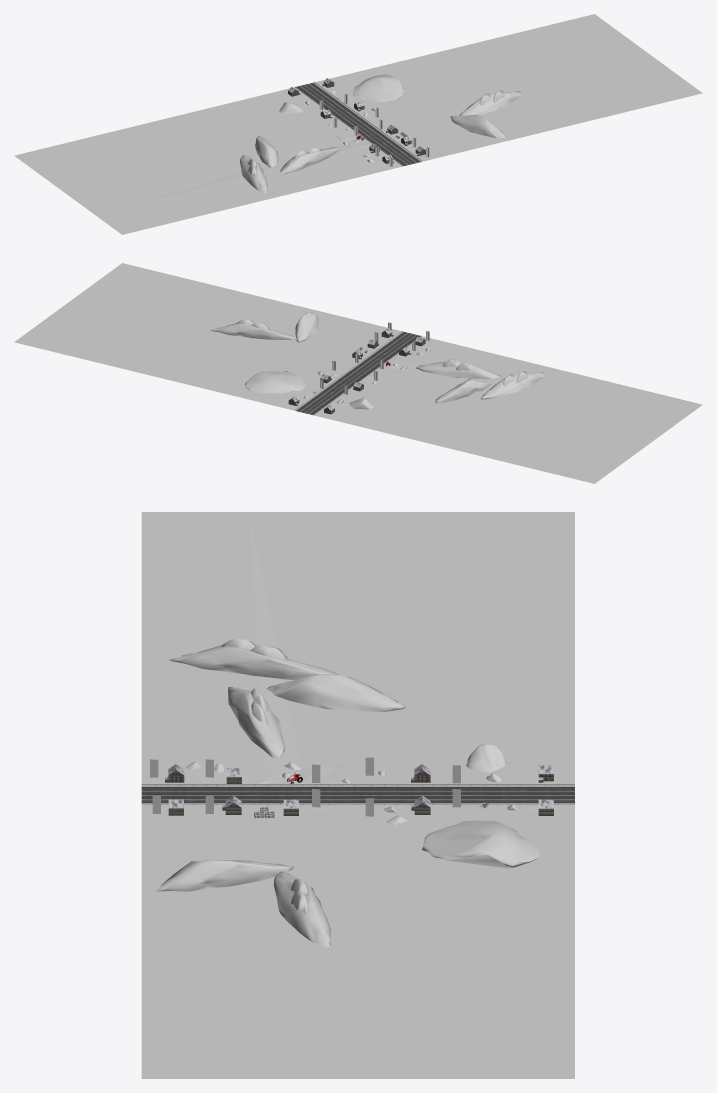
The model's file is snow _ p_03.FBX.
3 renders of one model, top to bottom at view 1: azimuth 30°, elevation 25°; view 2: azimuth 150°, elevation 25°; view 3: azimuth 270°, elevation 25°, orthographic. The views are drawn at different scales.
Visible parts, largest first — view 1: Object631, Object655, road3, Object306, Object406, Object304, Object402, Object405; view 2: Object631, Object655, road3, Object406, Object306, Object402, Object405, Object304; view 3: Object631, Object655, road3, Object402, Object405, Object304, Object306, Object406, Object562.
Part boxes in pixels (x1,y1,x2,y2): Object631: (314,14,702,161); Object655: (14,87,402,234); road3: (295,82,421,166); Object306: (459,90,521,115); Object406: (278,146,340,174); Object304: (450,115,507,138); Object402: (240,155,267,193); Object405: (255,136,278,167); Object631: (14,263,402,410); Object655: (314,336,702,483); road3: (295,331,421,415); Object406: (416,359,501,378); Object306: (210,319,296,340); Object402: (480,371,545,399); Object405: (435,378,490,403); Object304: (295,312,318,342); Object631: (141,805,574,1078); Object655: (141,512,574,785); road3: (141,786,574,804); Object402: (168,638,339,679); Object405: (266,674,405,711); Object304: (154,860,294,891); Object306: (273,871,330,947); Object406: (228,686,285,758); Object562: (466,743,506,772).
Size of the model in its own units: 11621 by 296 by 3756.
